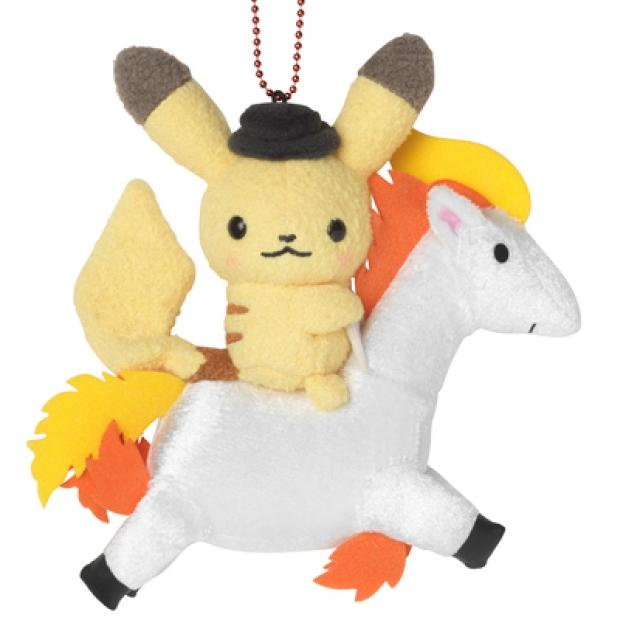Pikachu: (191, 101, 376, 392)
Ponyta: (64, 158, 581, 590)
